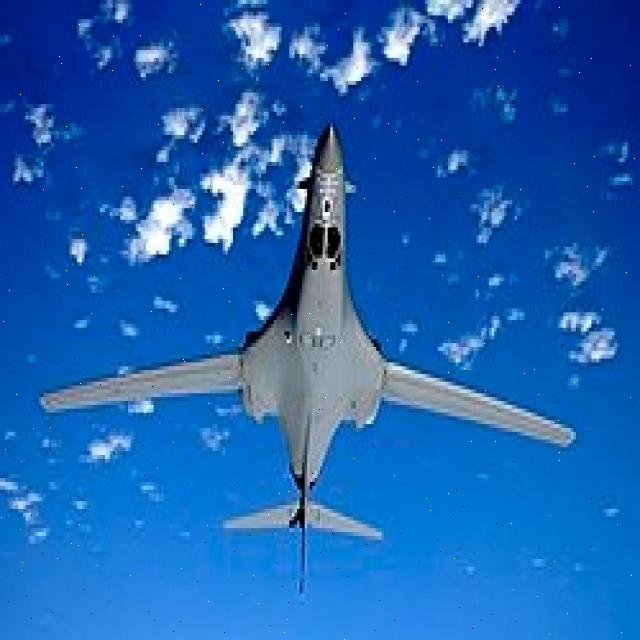B1: (22, 102, 586, 584)
